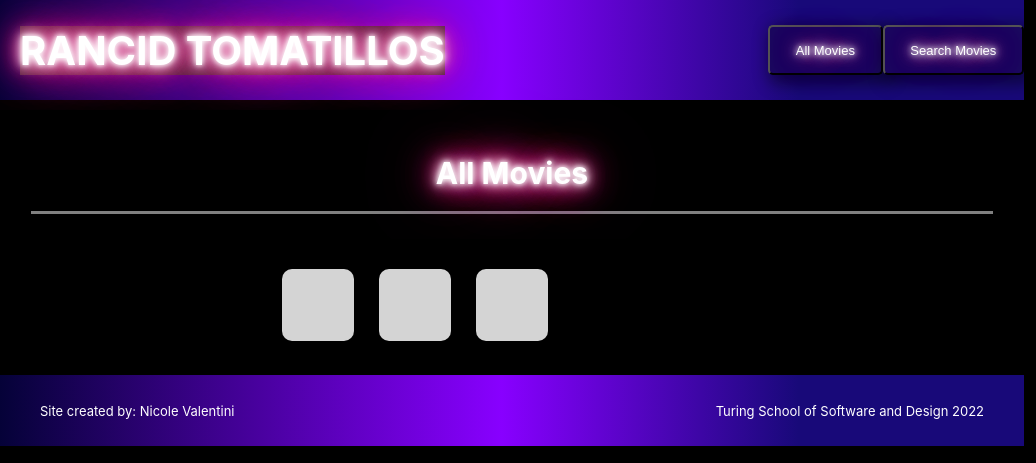
Test: Dashboard/AllMovies Page › Should be directed to the search form page when user clicks the Search button
The image size is (1036, 463).
Click the button with class "search-btn" at (954, 50), box [883,25,1024,75]
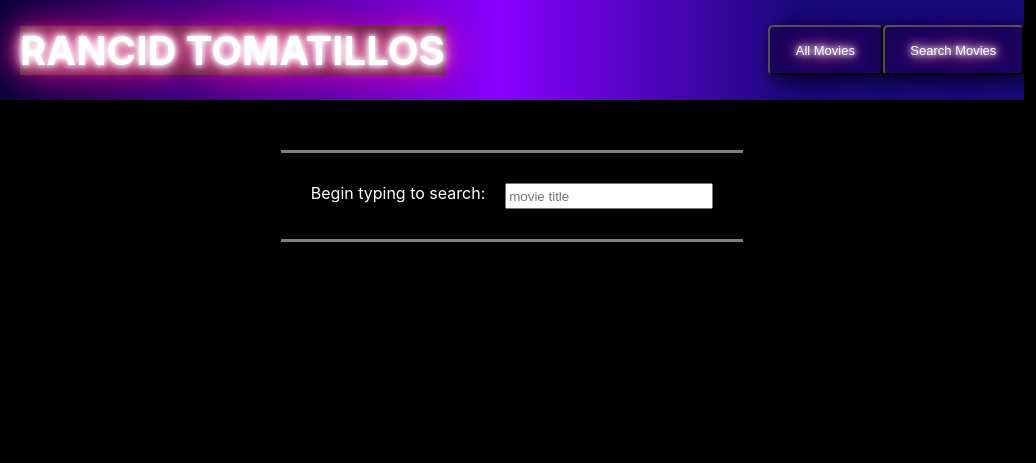
Now the text "Begin typing to search:" is shown, box [311,183,485,209]
